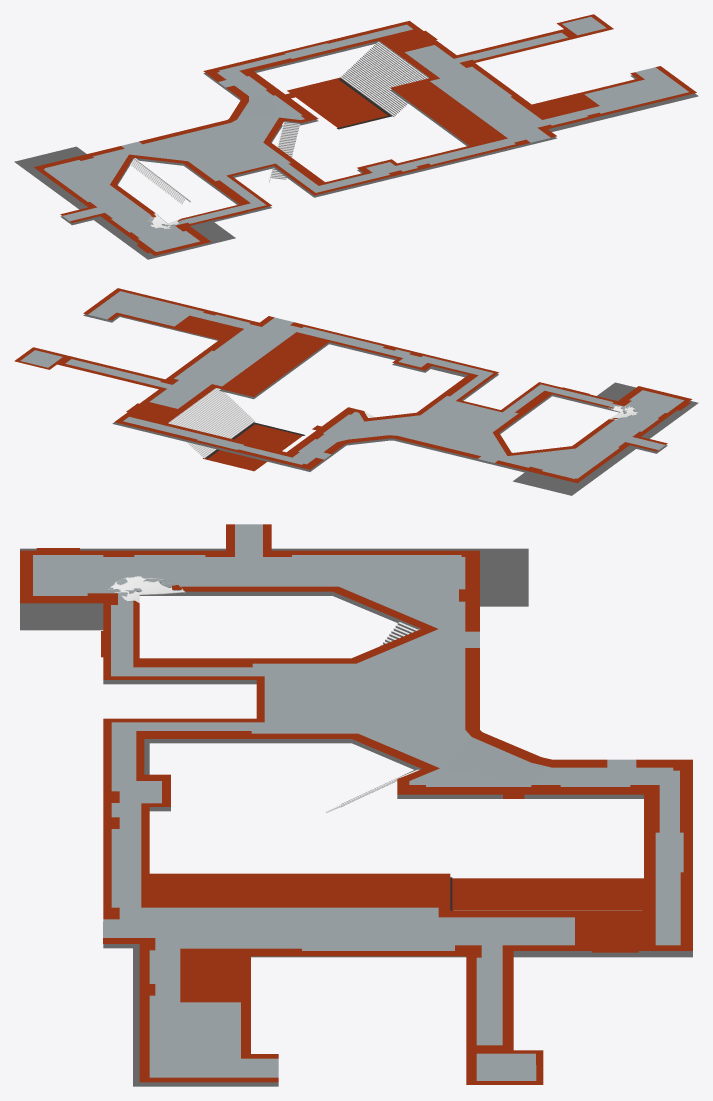
File: SM_H_Building_Tide_Loungehall_23_ATLAS.fbx
The picture shows the model from 3 angles, top to bottom: view 1: azimuth 30°, elevation 25°; view 2: azimuth 150°, elevation 25°; view 3: azimuth 270°, elevation 25°; orthographic projection. The views are drawn at different scales.
Parts seen in each view (by area): view 1: SM_H_Building_Tide_Loungehall_23_ATLAS; view 2: SM_H_Building_Tide_Loungehall_23_ATLAS; view 3: SM_H_Building_Tide_Loungehall_23_ATLAS.
Boxes of the visible parts, x1,y1,x2,y2 form: SM_H_Building_Tide_Loungehall_23_ATLAS: (14,14,698,259); SM_H_Building_Tide_Loungehall_23_ATLAS: (14,288,698,495); SM_H_Building_Tide_Loungehall_23_ATLAS: (20,524,692,1086).
Size of the model in its own units: 10187 by 5164 by 619.
